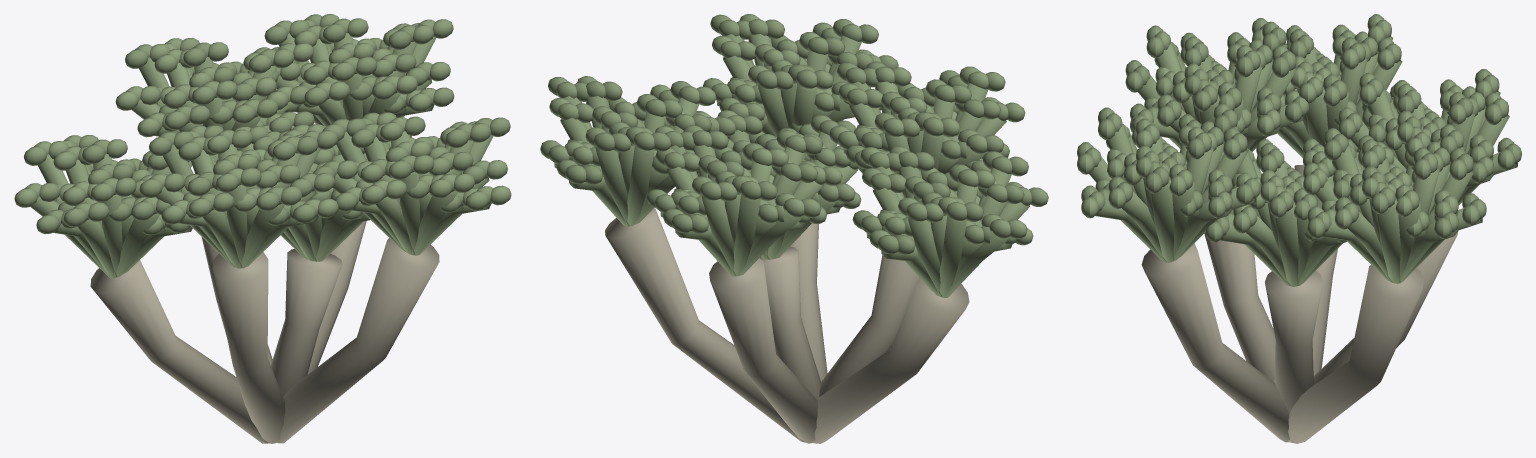
Rendered from frogspawn-desktop.glb.
3 views of the same model, side by side, from view 1: azimuth 30°, elevation 25°; view 2: azimuth 150°, elevation 25°; view 3: azimuth 270°, elevation 25° (orthographic). The views are drawn at different scales.
Parts seen in each view (by area): view 1: fleshy-tentacle, branching-corallum; view 2: fleshy-tentacle, branching-corallum; view 3: fleshy-tentacle, branching-corallum.
Boxes of the visible parts, box(x1,y1,x2,y2) form: fleshy-tentacle: box(14, 14, 511, 278); branching-corallum: box(90, 221, 439, 443); fleshy-tentacle: box(540, 14, 1048, 298); branching-corallum: box(605, 208, 969, 443); fleshy-tentacle: box(1077, 14, 1521, 286); branching-corallum: box(1141, 165, 1458, 443).
Size of the model in its own units: 0.651 by 0.4663 by 0.5301.
